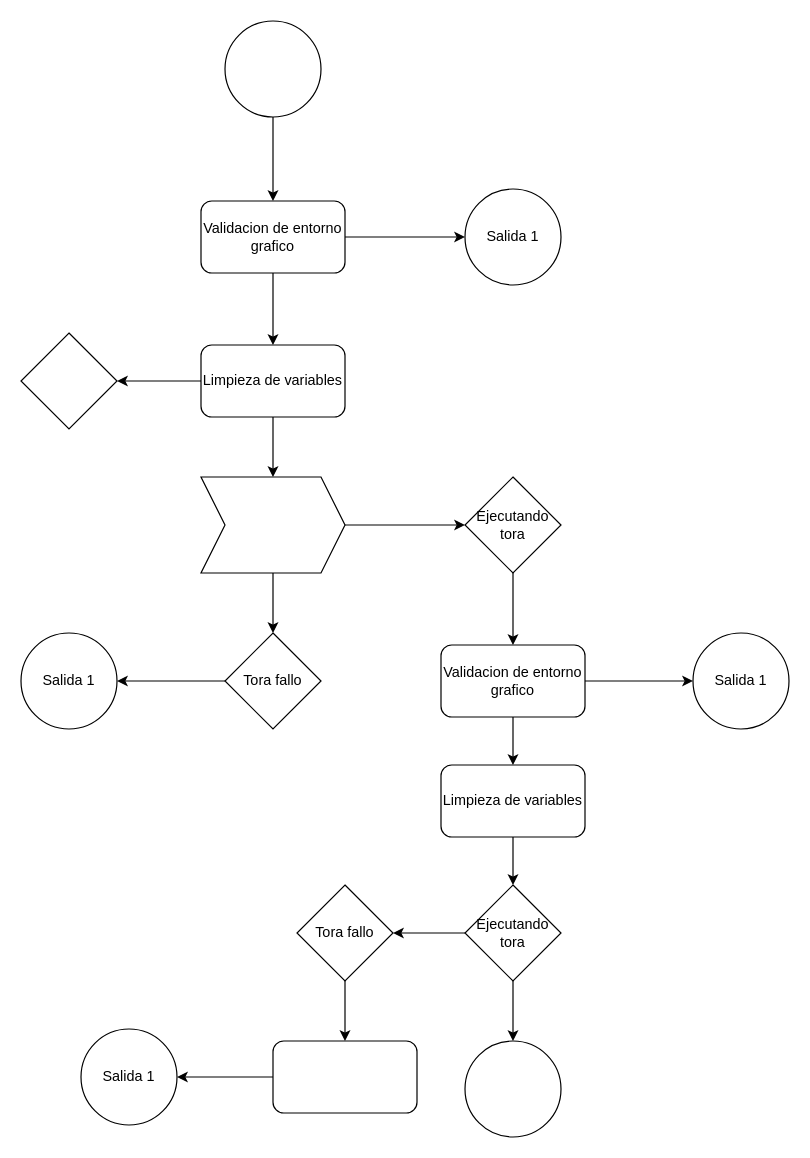
This 810x1158 diagram has some shape labels left out. Each missing label, with the centre of its shape:
Diagnostico: (x=344, y=1076)
Diagnostico previo: (x=68, y=380)
Inicio: (x=272, y=68)
Lanzamiento: (x=272, y=524)
Tora se ejecuto correcatmente: (x=512, y=1088)
